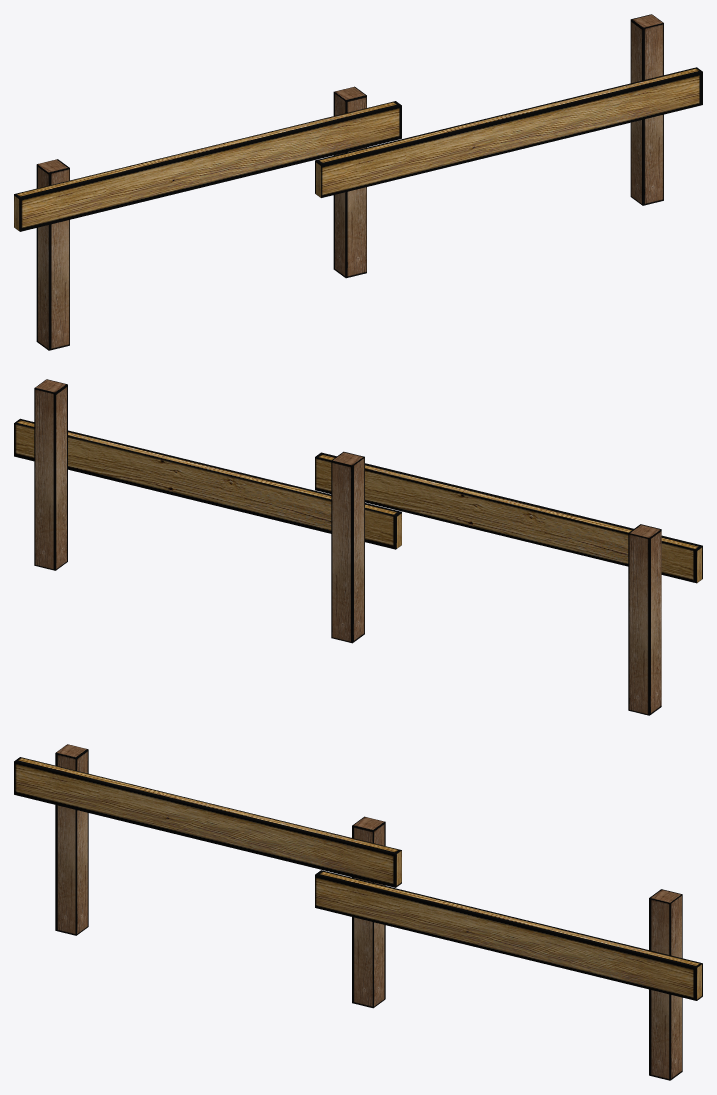
File: WoodFences_02.FBX
3 renders of one model, top to bottom at view 1: azimuth 30°, elevation 25°; view 2: azimuth 150°, elevation 25°; view 3: azimuth 330°, elevation 25°, orthographic.
Visible parts, largest first — view 1: Box004; view 2: Box004; view 3: Box004.
Part boxes in pixels (x1,y1,x2,y2): Box004: (14, 14, 702, 350); Box004: (14, 379, 702, 715); Box004: (14, 744, 702, 1080).
Size of the model in its own units: 161 by 40 by 7.52.
